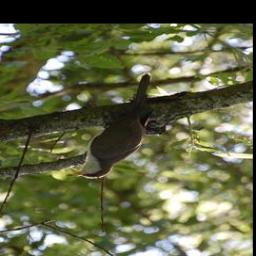Cuckoo: (65, 72, 156, 180)
